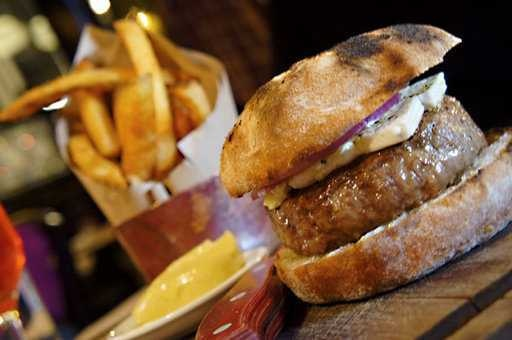hamburger: (252, 27, 477, 297)
